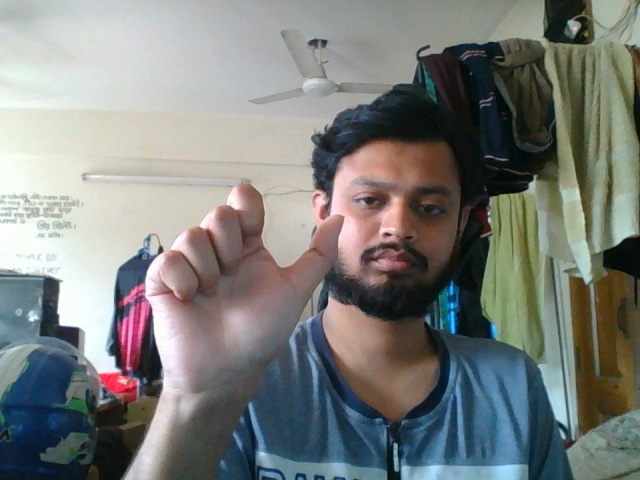dho: (121, 171, 347, 457)
